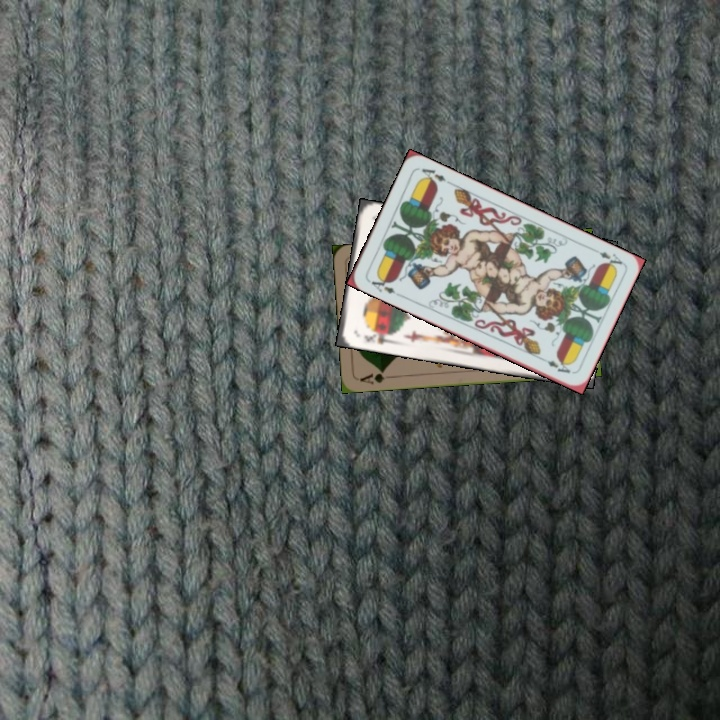EA: (587, 244, 625, 271), (364, 271, 398, 297)
GA: (356, 366, 396, 387)
SK: (360, 326, 394, 346)
